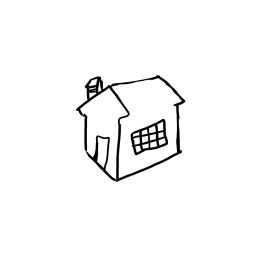chimney: (81, 71, 107, 106)
closed_window: (124, 118, 171, 155)
door: (88, 132, 112, 176)
single_line_roof: (61, 65, 199, 119)
small_house: (1, 0, 260, 260)
wall: (113, 100, 189, 185)
